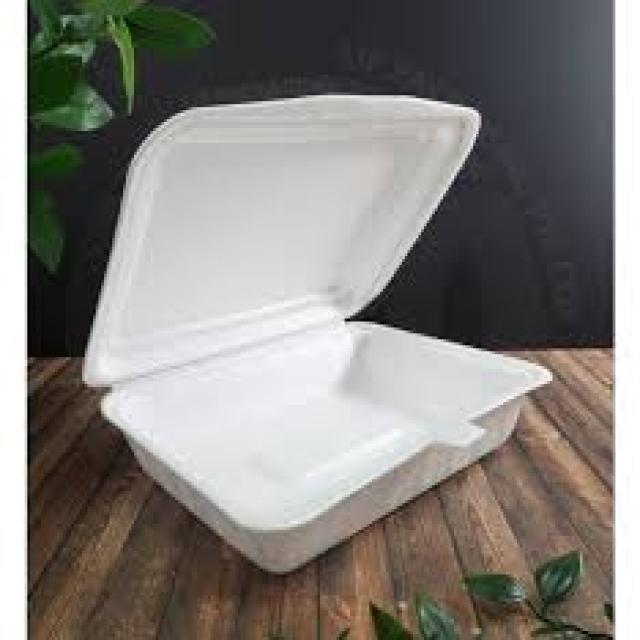styrofoam: (85, 95, 480, 386)
